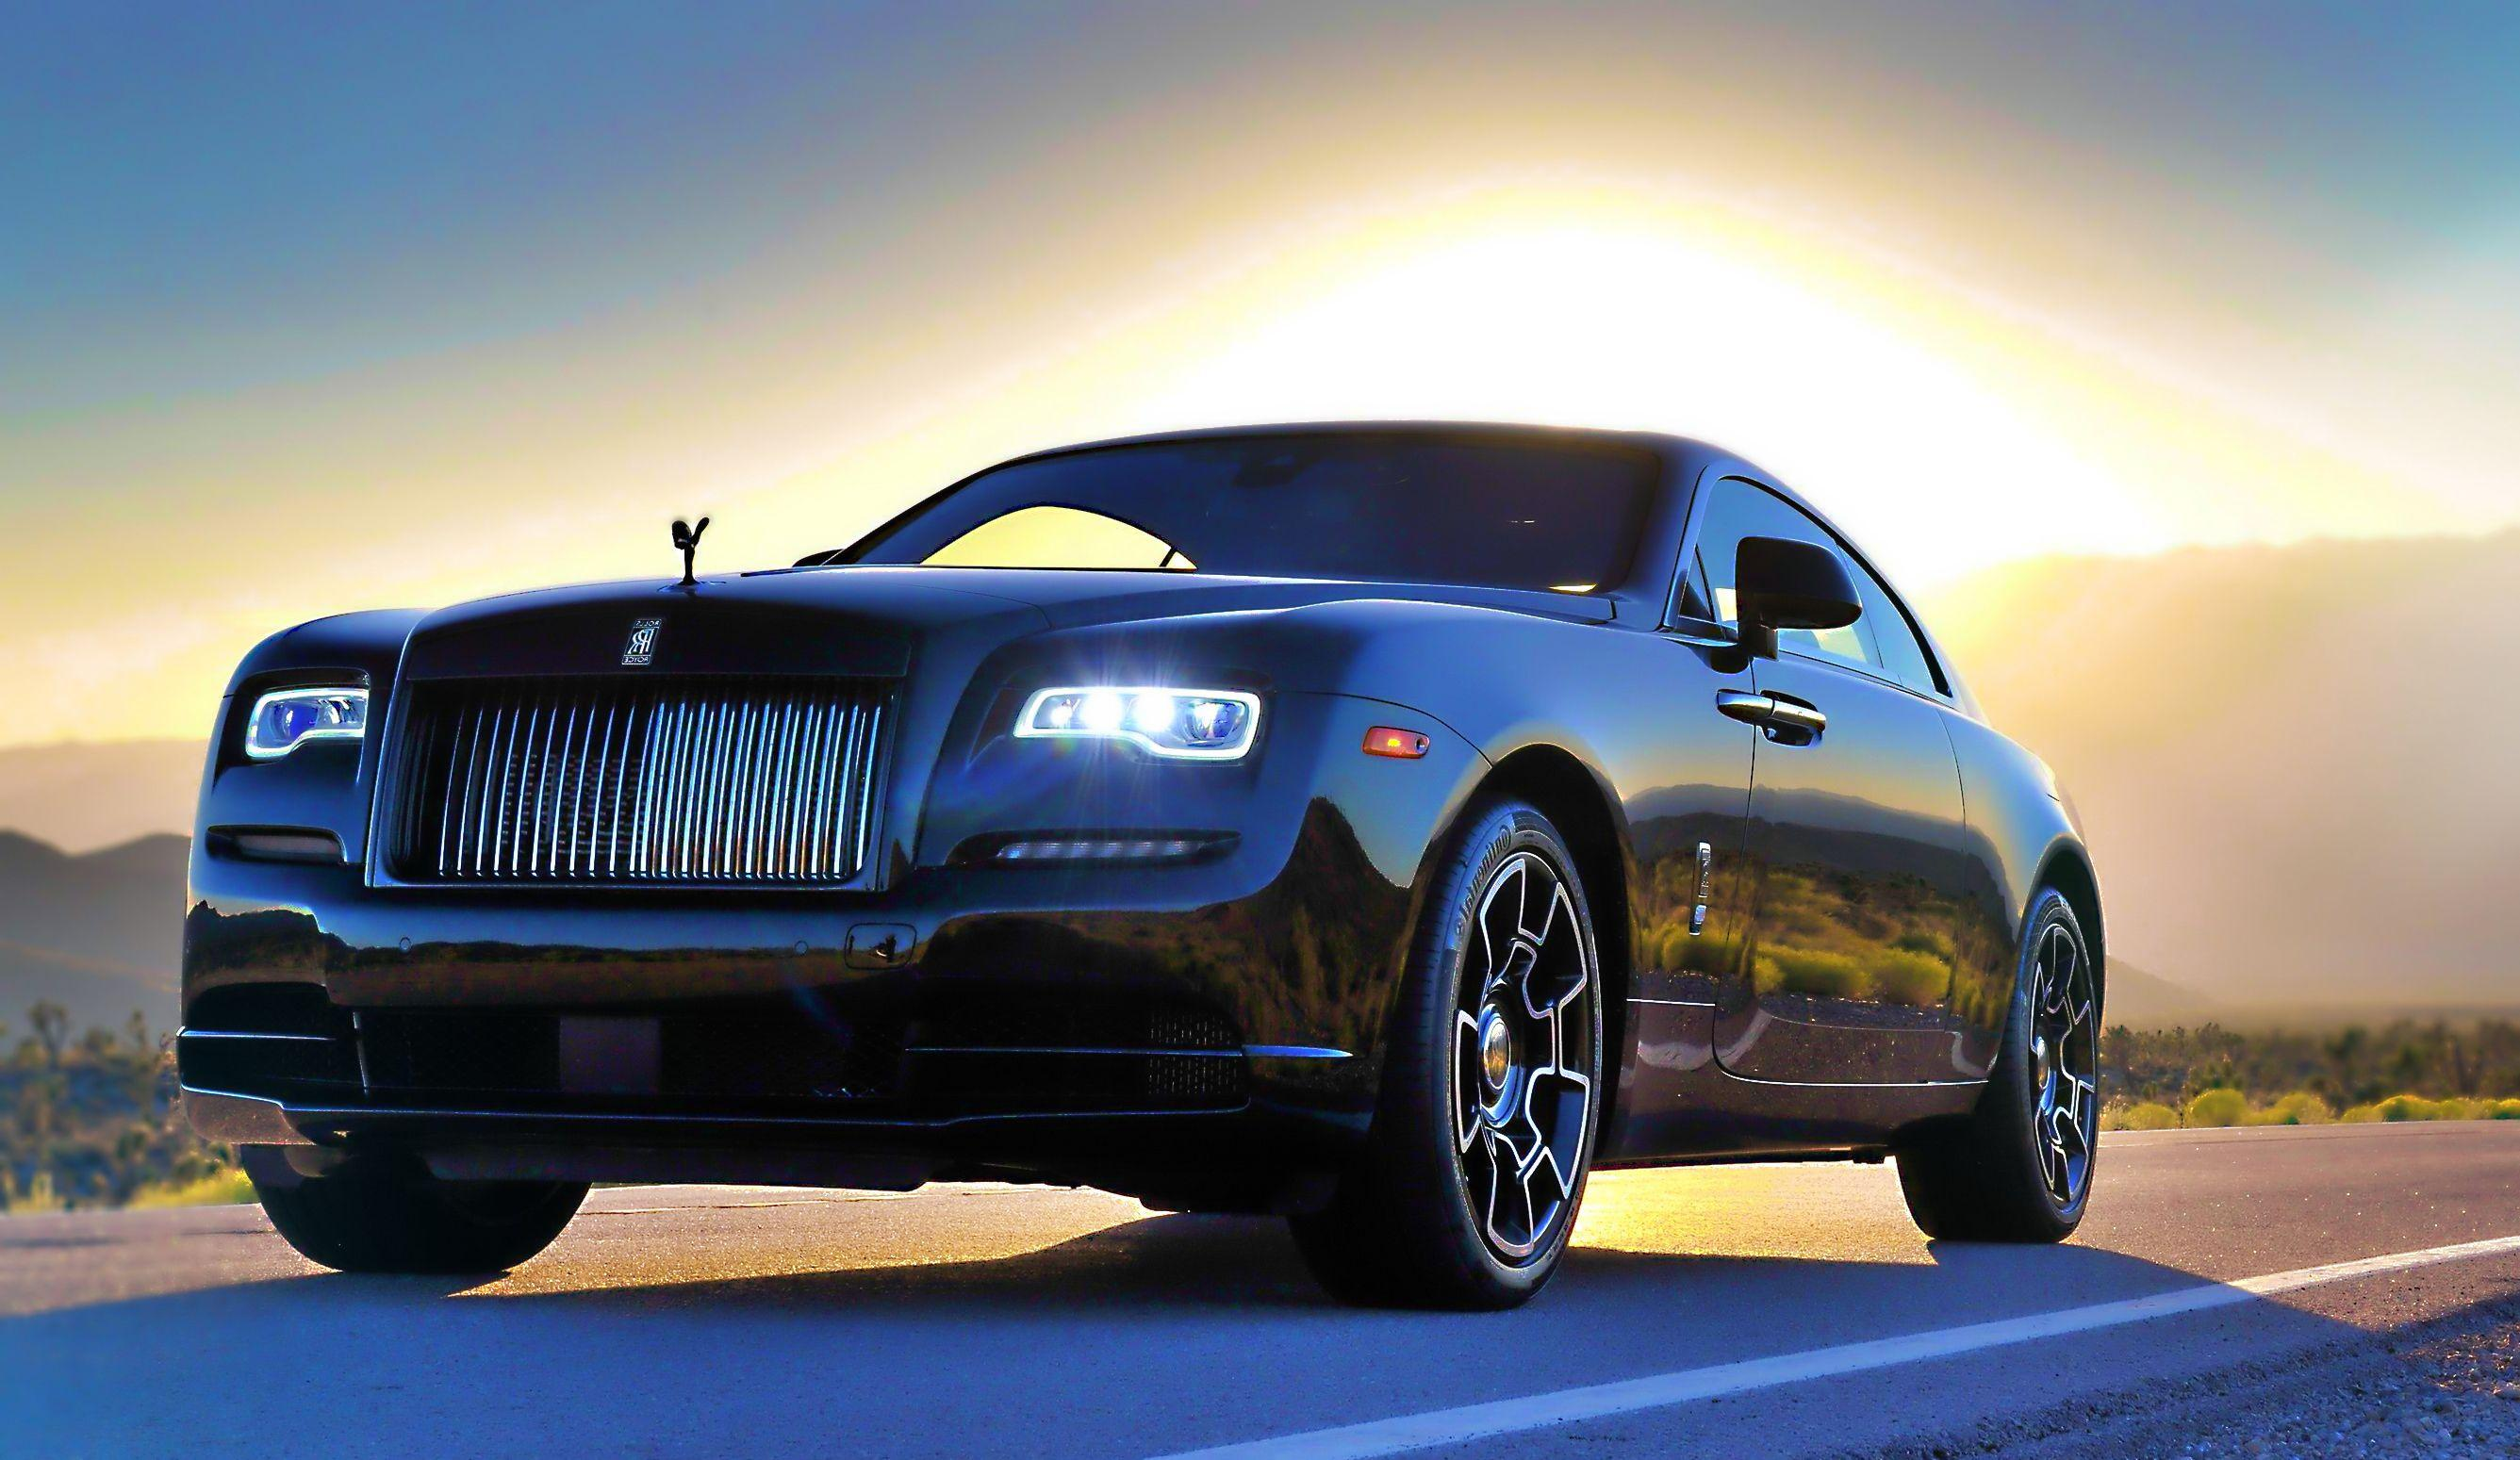Car: (132, 325, 2189, 1294)
